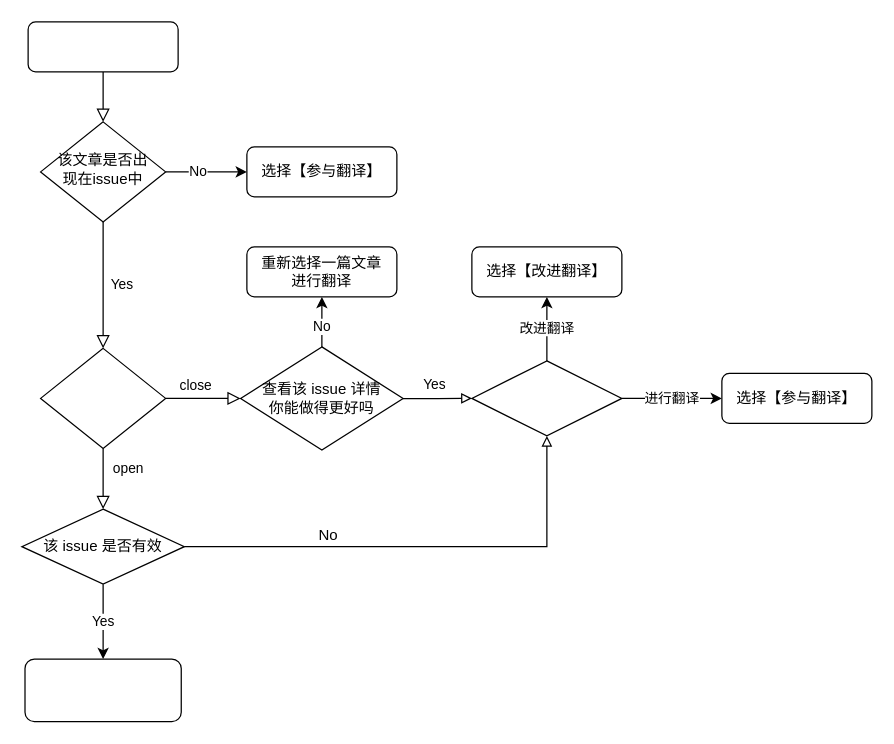
The diagram is 894 pixels wide and 744 high, and some of its shapes have lost their labels. Here are the shapes that lost their labels. From the top down, the box of each, then its label:
(27, 21, 178, 72): 确定你要翻译的文章
(39, 347, 166, 448): 该 issue 的 状态是什么
(471, 360, 622, 436): 该 issue 在干什么
(24, 658, 181, 722): 选择【等待翻译】 或重新选择一篇文章
